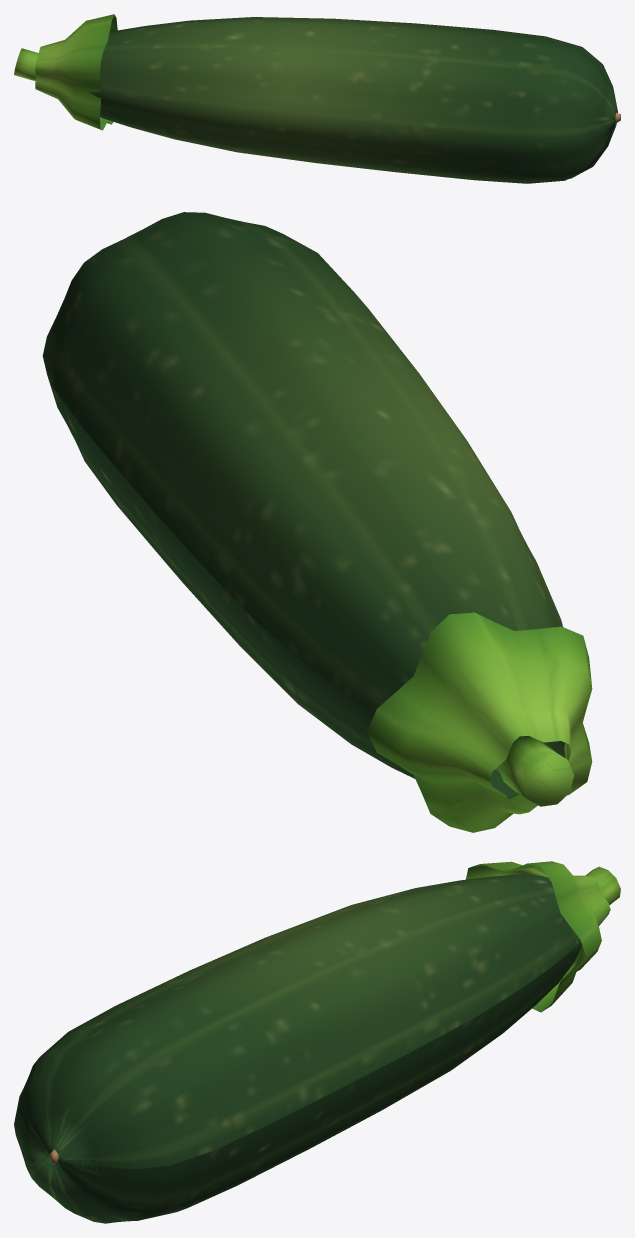
Rendered from NP_Zucchini_Harvest.fbx.
3 renders of one model, top to bottom at view 1: azimuth 30°, elevation 25°; view 2: azimuth 150°, elevation 25°; view 3: azimuth 270°, elevation 25°, orthographic. The views are drawn at different scales.
Visible parts, largest first — view 1: NP_Zucchini_Harvest; view 2: NP_Zucchini_Harvest; view 3: NP_Zucchini_Harvest.
Part boxes in pixels (x1,y1,x2,y2): NP_Zucchini_Harvest: (14,14,620,183); NP_Zucchini_Harvest: (42,212,592,832); NP_Zucchini_Harvest: (14,861,620,1223).
Size of the model in its own units: 48.12 by 15.06 by 43.5.
